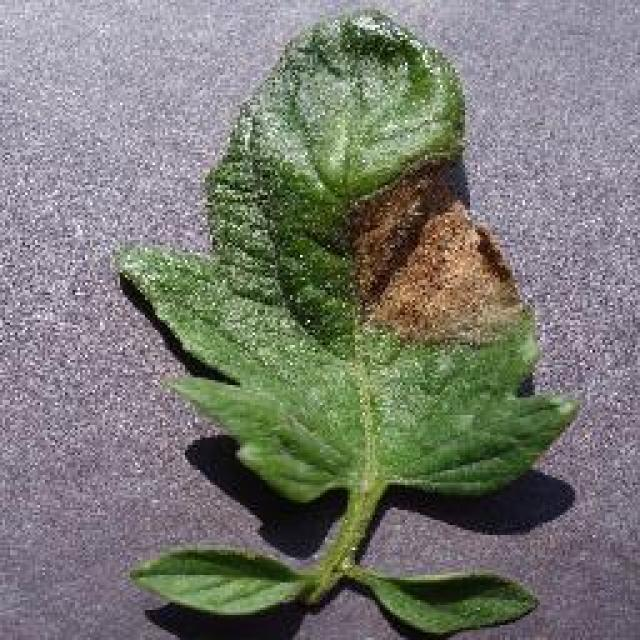Tomato Late Blight: (145, 112, 553, 425)
